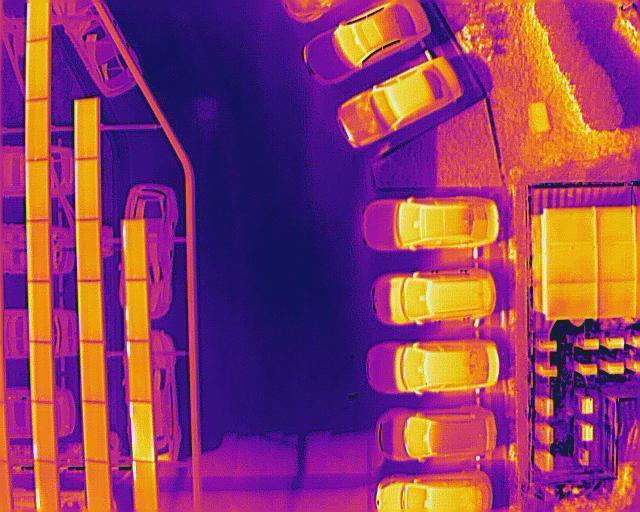No-Anomaly: (29, 341, 55, 406), (80, 341, 106, 404), (75, 158, 100, 223), (78, 277, 103, 342), (82, 400, 108, 461), (76, 219, 101, 282), (28, 279, 52, 342), (26, 160, 50, 221), (75, 96, 98, 159), (26, 95, 48, 160), (27, 220, 50, 282), (28, 40, 48, 101), (86, 461, 108, 512)
Unclassified: (129, 400, 156, 460), (120, 218, 145, 281), (127, 338, 151, 403), (125, 279, 150, 340), (33, 399, 57, 462), (34, 460, 58, 512), (133, 461, 156, 512)
